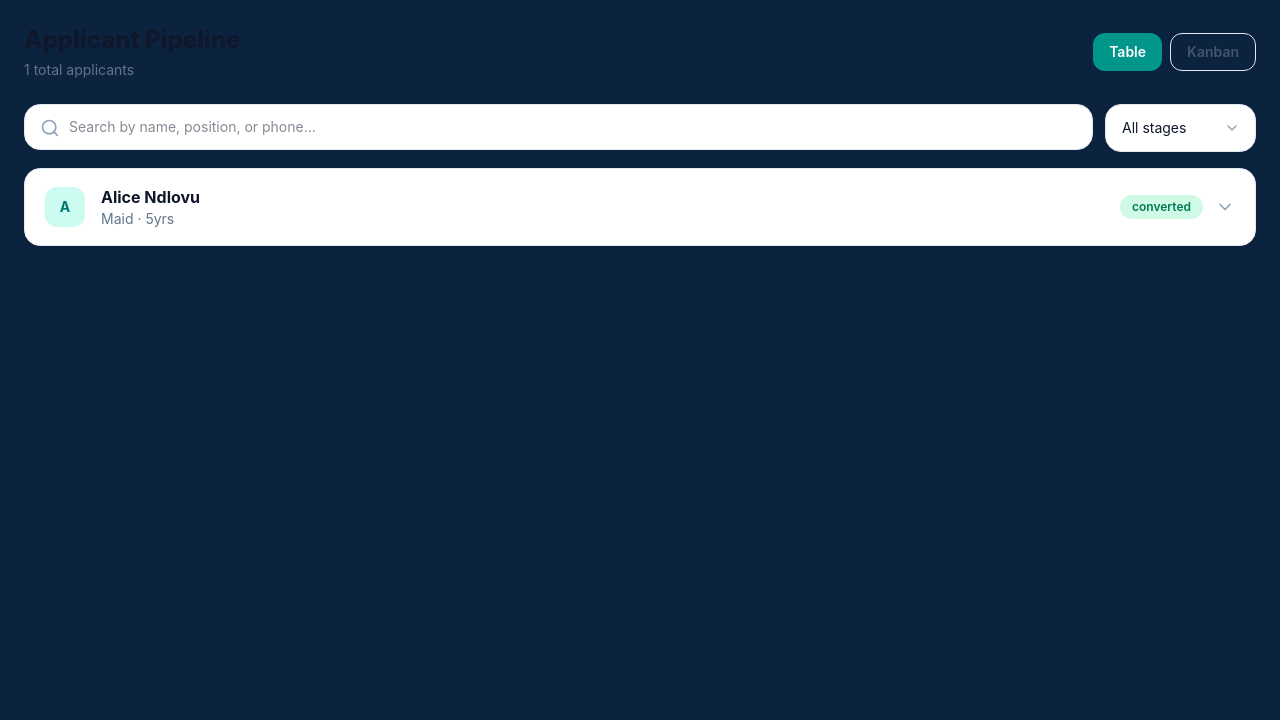
AdminApplicants › shows converted badge when expanded
Click the text "Alice Ndlovu": (150, 197) [101,185,200,209]
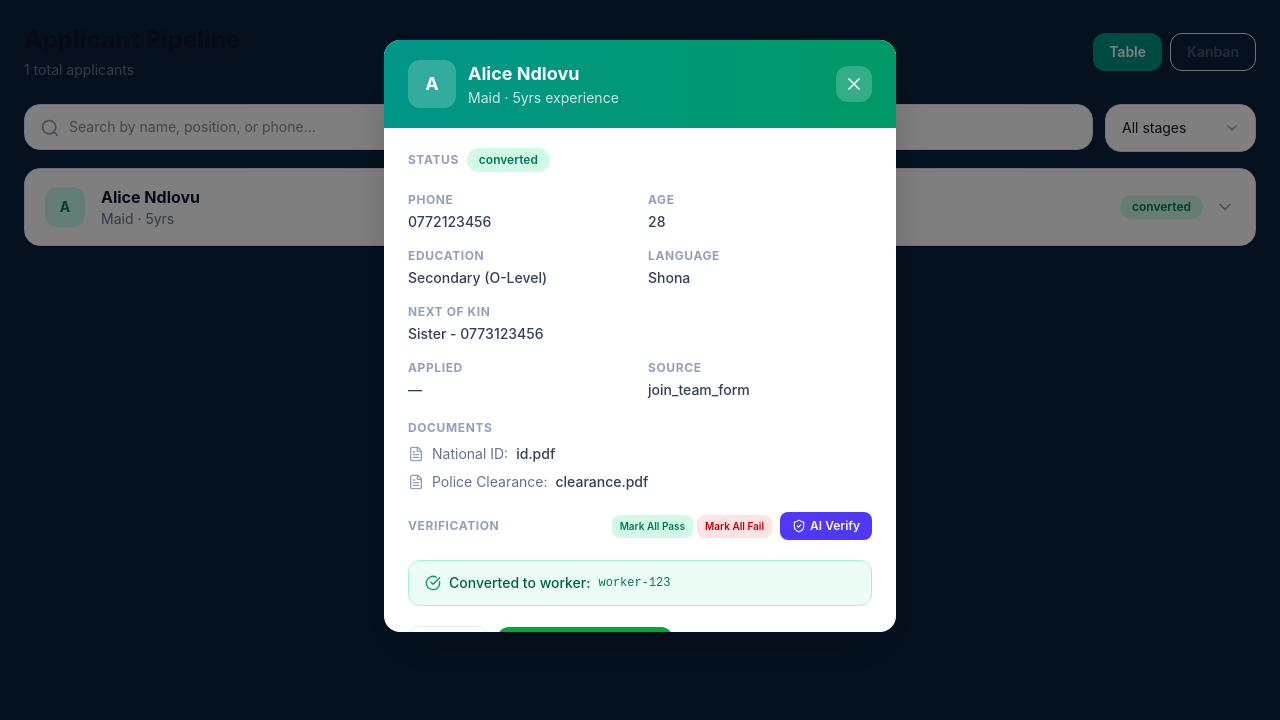
Now the text "Converted to worker:" is shown, box [449,573,590,593]
